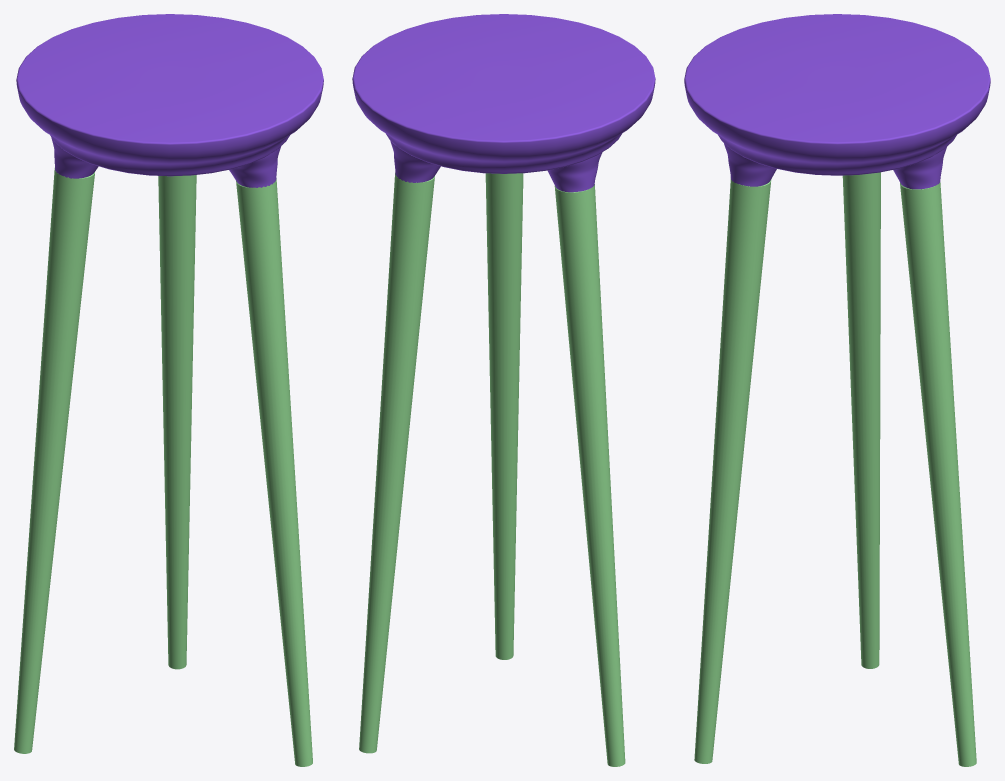
The model's file is styl.obj.
3 views of the same model, side by side, from view 1: azimuth 30°, elevation 25°; view 2: azimuth 150°, elevation 25°; view 3: azimuth 270°, elevation 25° (orthographic).
Parts seen in each view (by area): view 1: Line877522012, Circle120, Circle116, Circle115, Circle119, Circle118; view 2: Line877522012, Circle116, Circle115, Circle120, Circle118, Circle117; view 3: Line877522012, Circle115, Circle120, Circle116, Circle117, Circle119.
Boxes of the visible parts, x1,y1,x2,y2 form: Line877522012: [16, 14, 323, 176]; Circle120: [236, 179, 312, 766]; Circle116: [14, 168, 94, 753]; Circle115: [158, 175, 196, 669]; Circle119: [229, 146, 281, 187]; Circle118: [51, 137, 98, 178]; Line877522012: [352, 14, 655, 173]; Circle116: [554, 184, 625, 766]; Circle115: [359, 173, 434, 753]; Circle120: [485, 173, 523, 659]; Circle118: [547, 152, 602, 192]; Circle117: [390, 140, 440, 182]; Line877522012: [684, 14, 990, 175]; Circle115: [900, 182, 976, 766]; Circle120: [694, 178, 771, 763]; Circle116: [842, 172, 880, 668]; Circle117: [893, 147, 946, 189]; Circle119: [724, 143, 776, 186].
Size of the model in its own units: 307 by 706 by 301.
